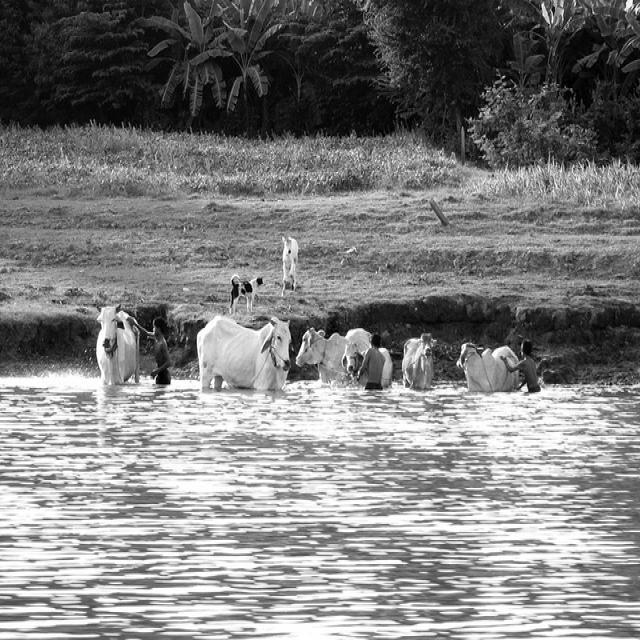cow: (194, 312, 291, 388), (94, 301, 139, 383), (294, 324, 351, 381), (455, 342, 518, 390), (397, 331, 436, 389), (344, 325, 371, 371), (280, 233, 298, 287), (377, 344, 392, 387)
